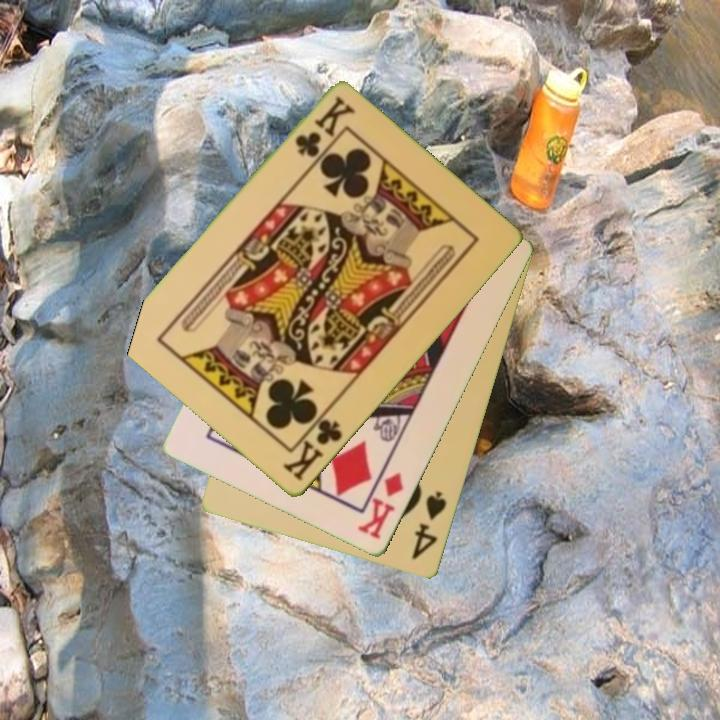4s: (408, 488, 450, 564)
Kc: (279, 407, 346, 485), (291, 93, 357, 162)
Kd: (354, 468, 407, 543)
